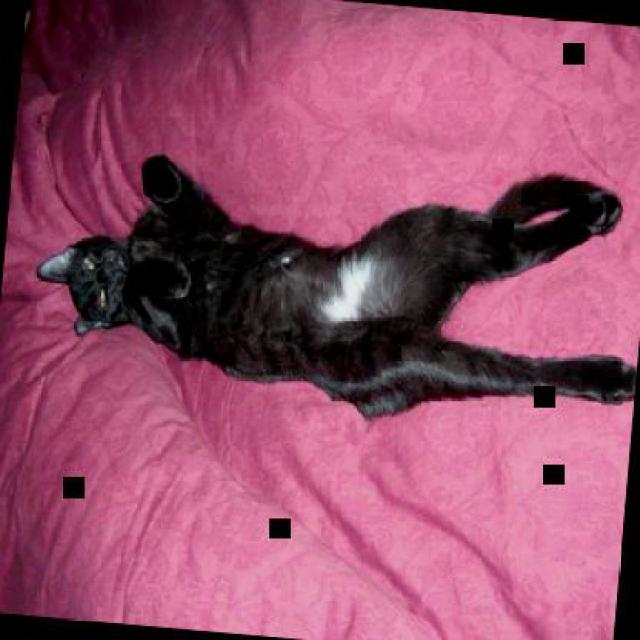cat: (23, 129, 639, 443)
